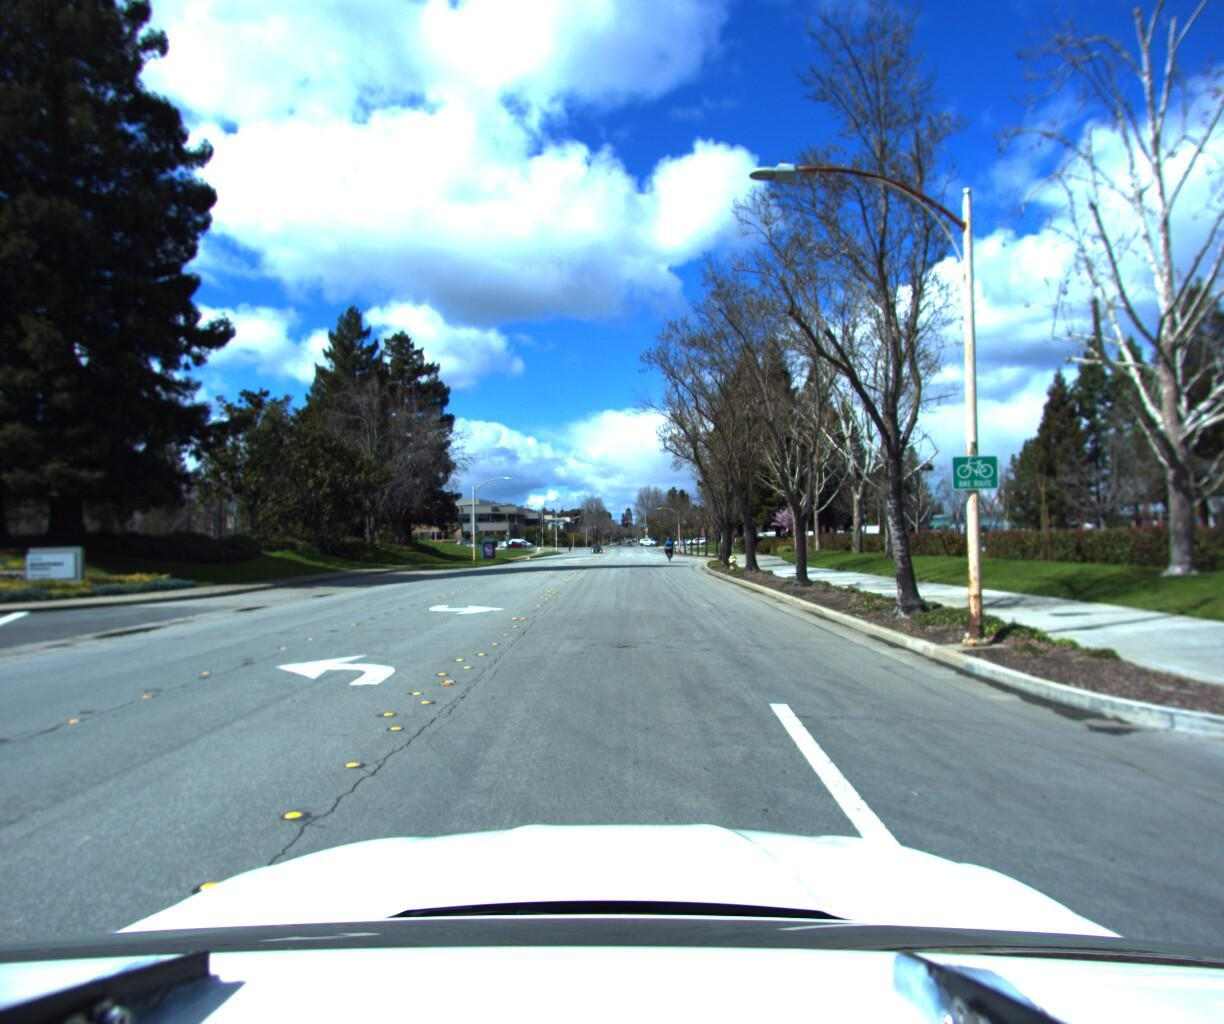bicycle: (661, 535, 675, 562)
